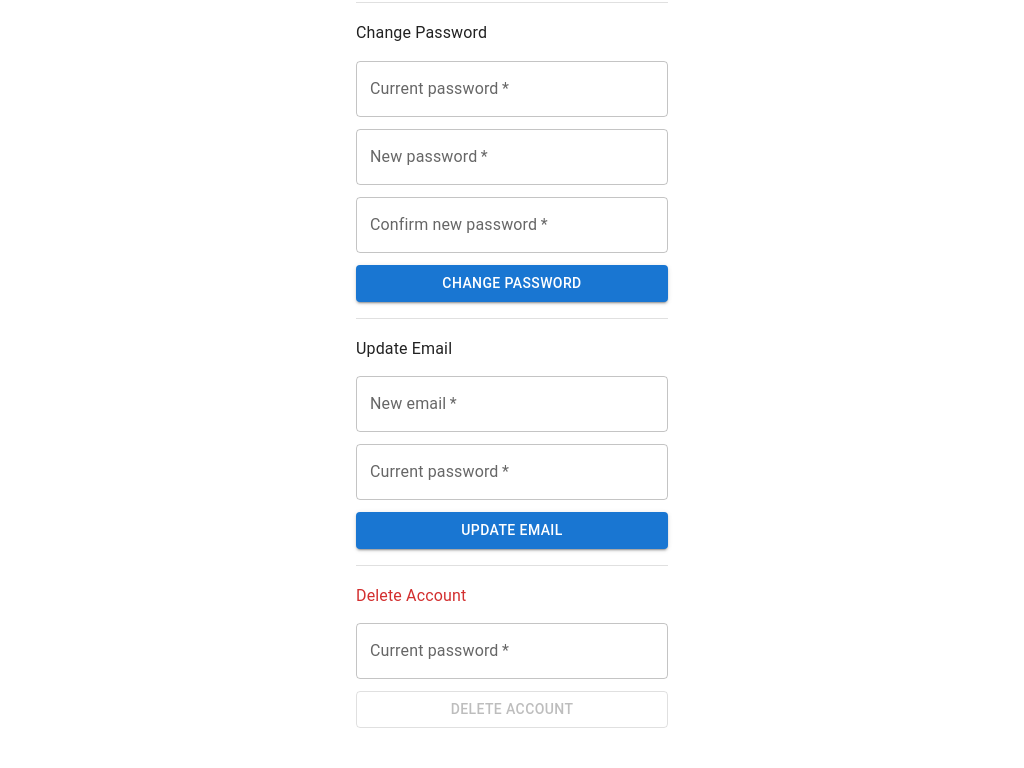
Test case: SettingsPage › opens delete confirmation dialog
(page scrolled)
In the 3rd password field labelled "Current password *": (512,651) [356,623,668,679], type "pass123"
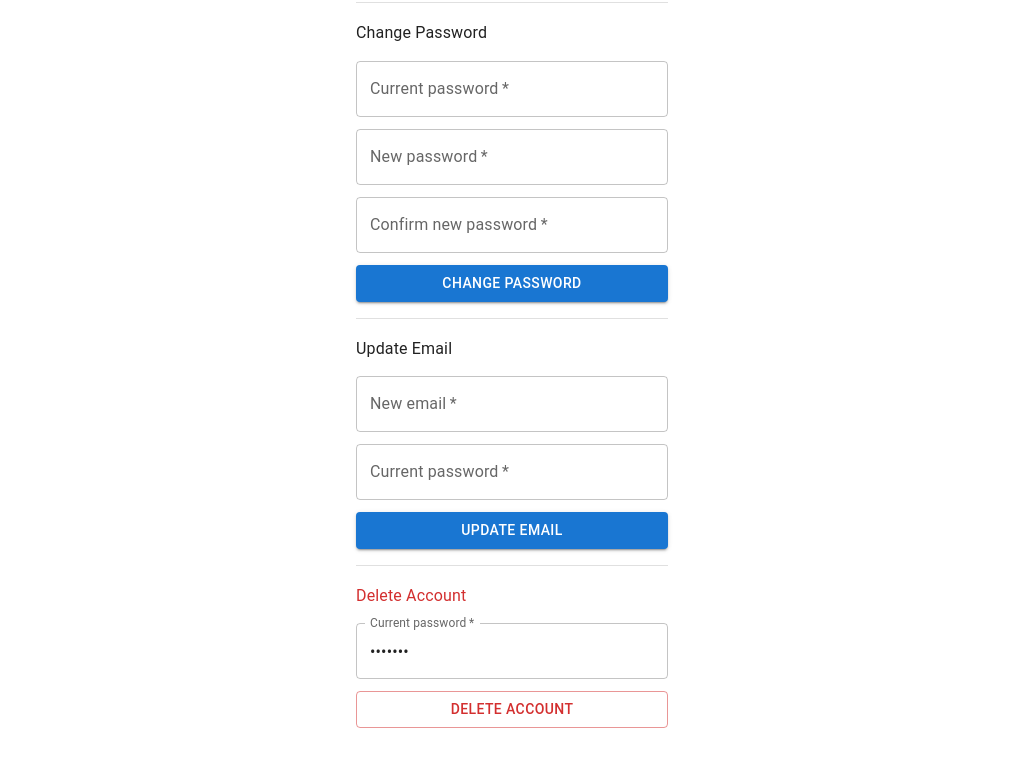
Click the button "Delete Account": (512,709) [356,691,668,728]
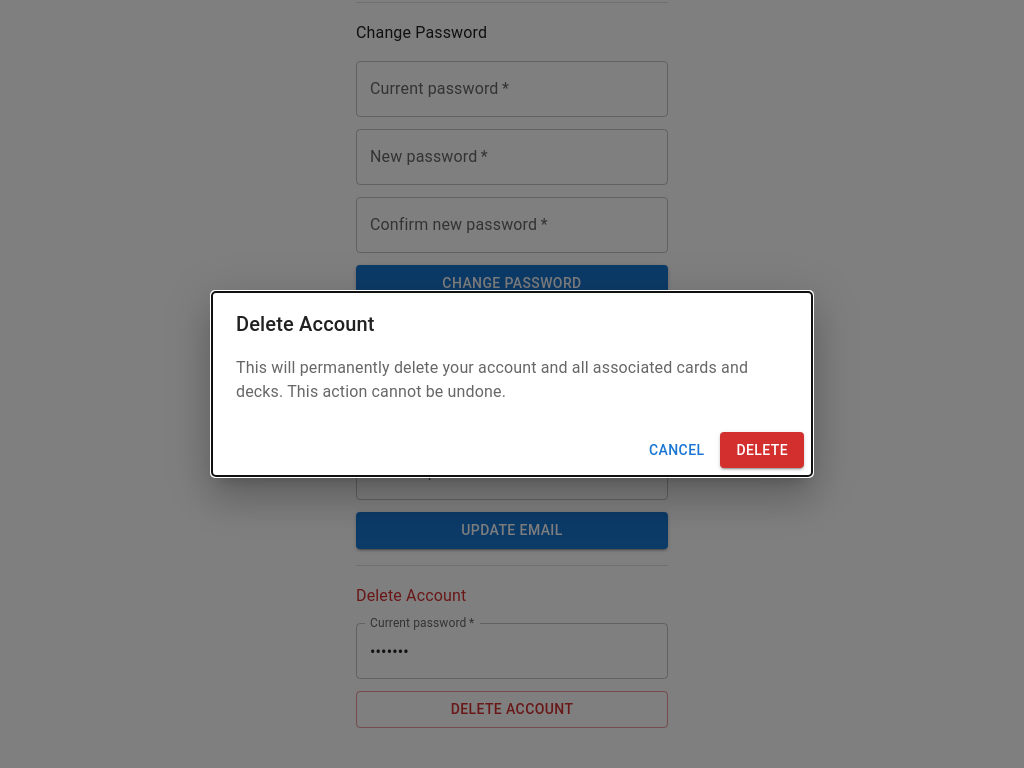
Expected: the text "permanently delete your account" is shown, [236,358,748,401]
